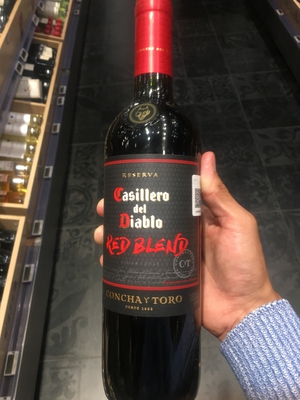casillero del diablo red blend: (90, 3, 208, 395)
